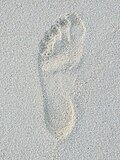human_foot_print: (38, 13, 85, 138)
